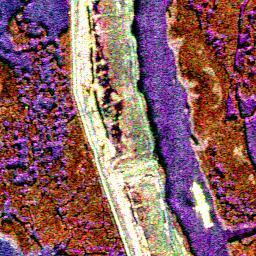Ship: (188, 180, 216, 230)
